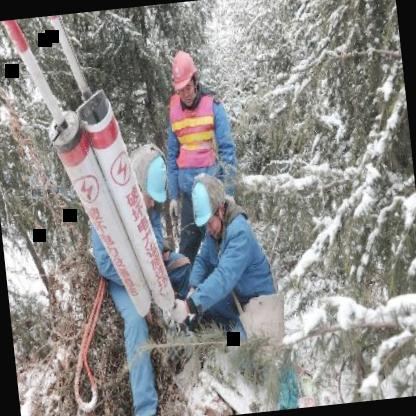helmet: (116, 140, 172, 212), (187, 171, 228, 239), (167, 46, 202, 105)
